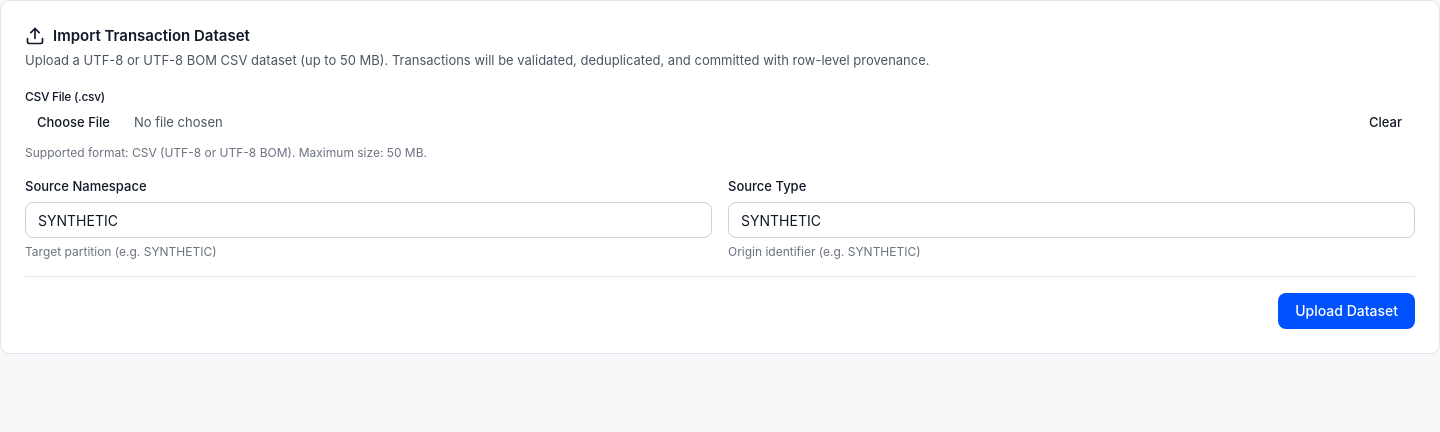
Test case: DatasetUploadCard component (F4.4) › handles 413 file too large error
Earlier steps of the test are not shown.
Click the button "Upload Dataset". click: (1347, 311)
box: [1278,293,1415,329]
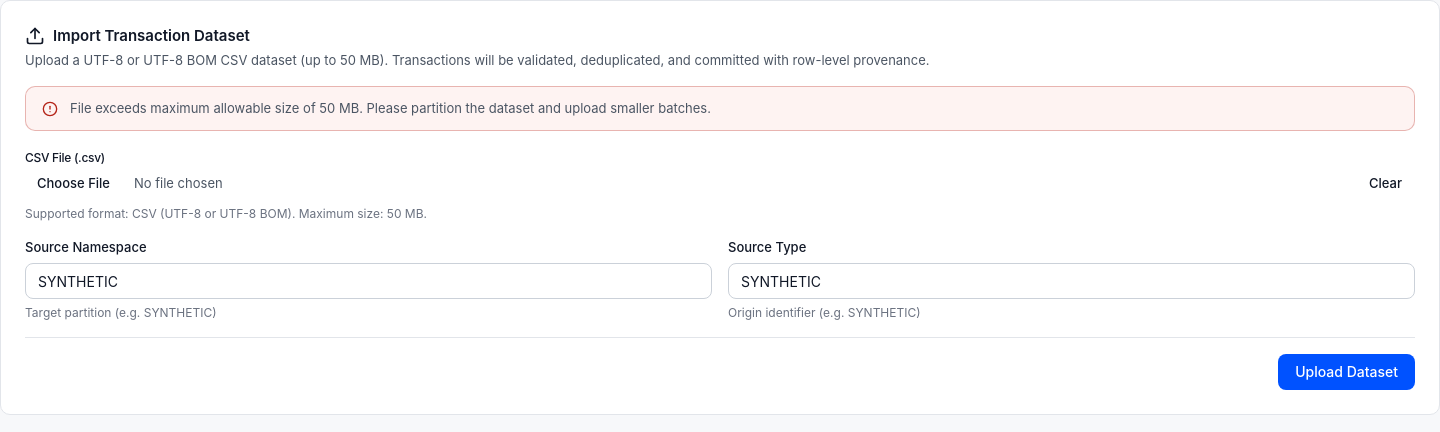
Expected: the message named "payload too large error" is shown, [25,86,1415,131]
